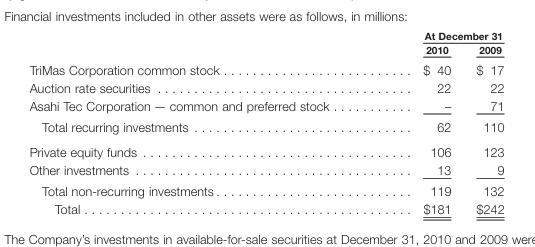table: (28, 28, 503, 215)
table column: (28, 28, 375, 215), (375, 28, 463, 215), (463, 28, 503, 215)
table column header: (28, 28, 503, 58)
table row: (28, 115, 503, 138), (28, 138, 503, 160), (28, 58, 503, 78), (28, 95, 503, 115), (28, 179, 503, 199), (28, 160, 503, 179), (28, 41, 503, 58), (28, 78, 503, 95), (28, 199, 503, 215), (28, 28, 503, 41)
table spanning cell: (375, 28, 503, 41)
